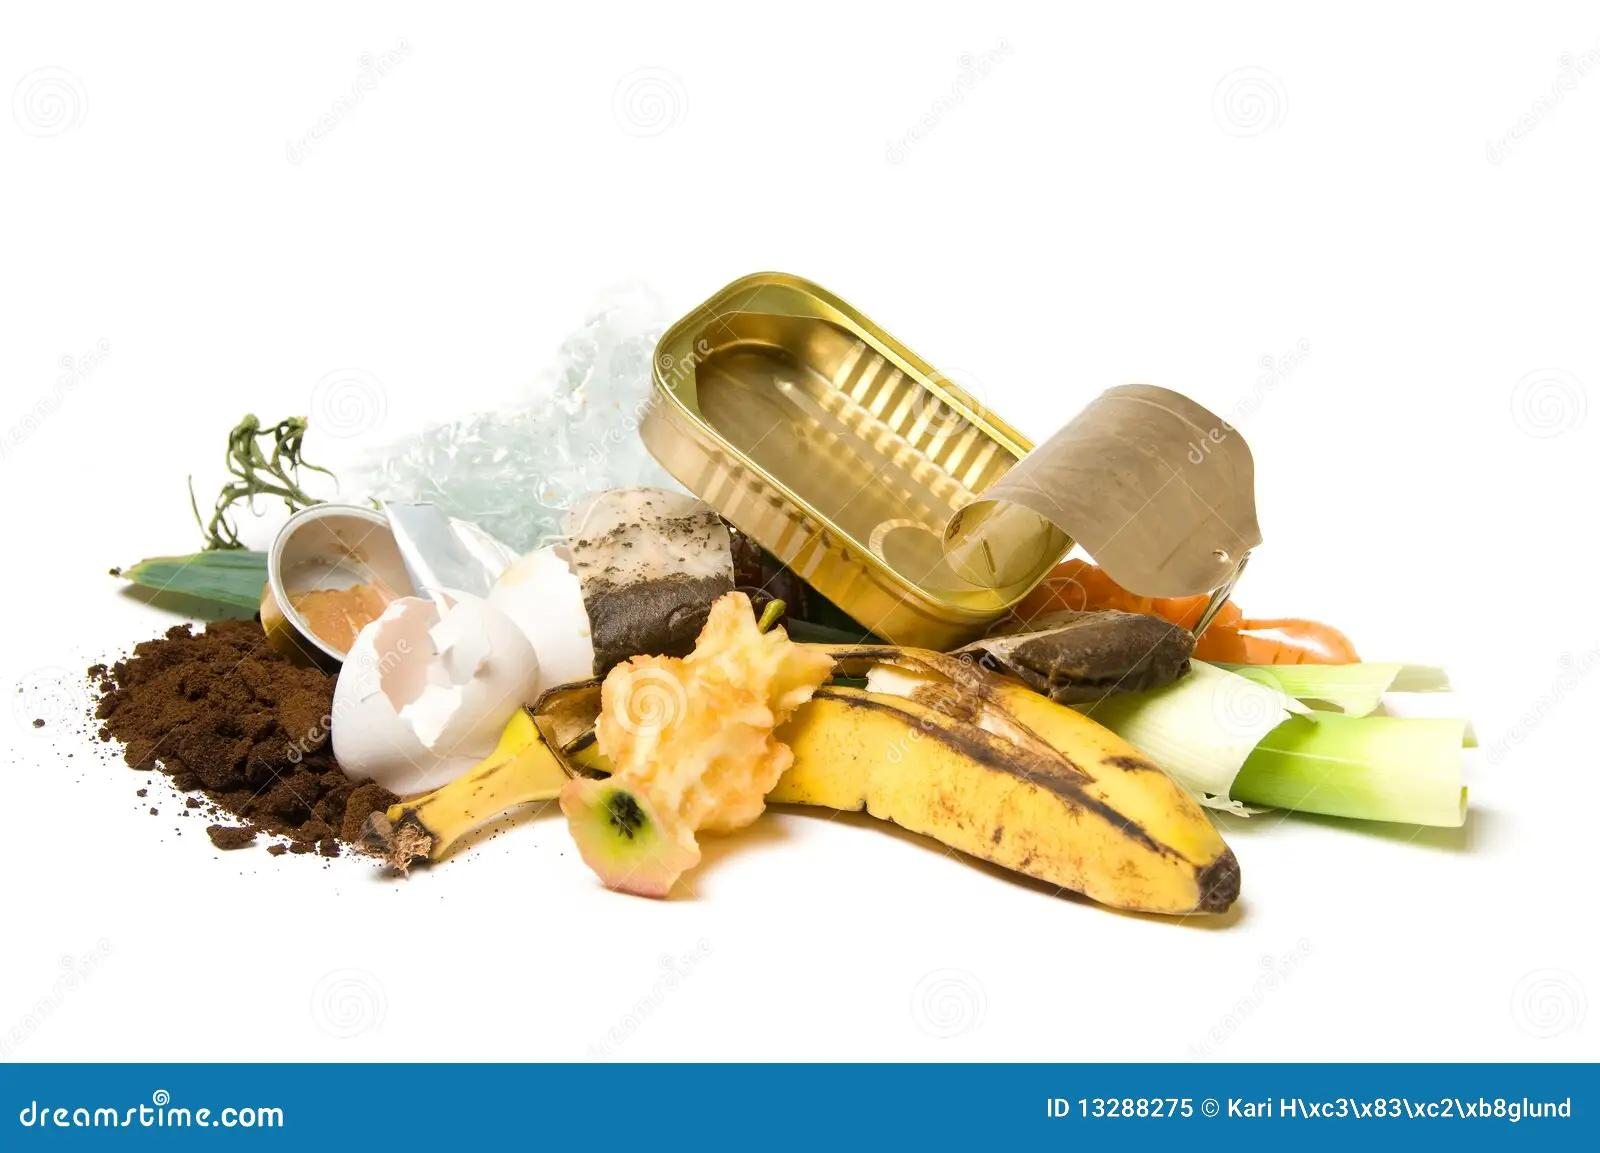organic: (375, 644, 1245, 918), (559, 595, 841, 903), (1081, 641, 1486, 831)
